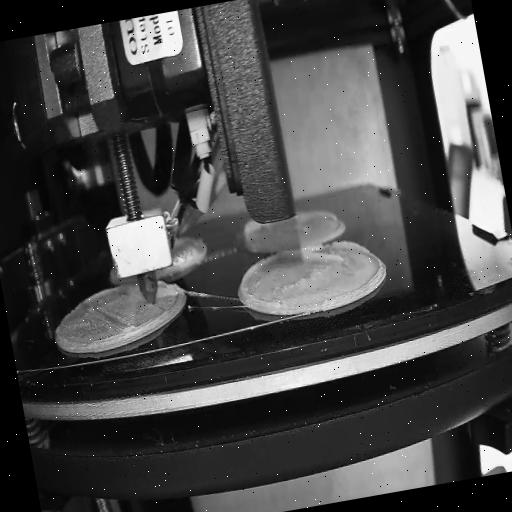over_extrusion: (276, 236, 370, 278), (233, 254, 278, 300), (238, 222, 260, 252)
